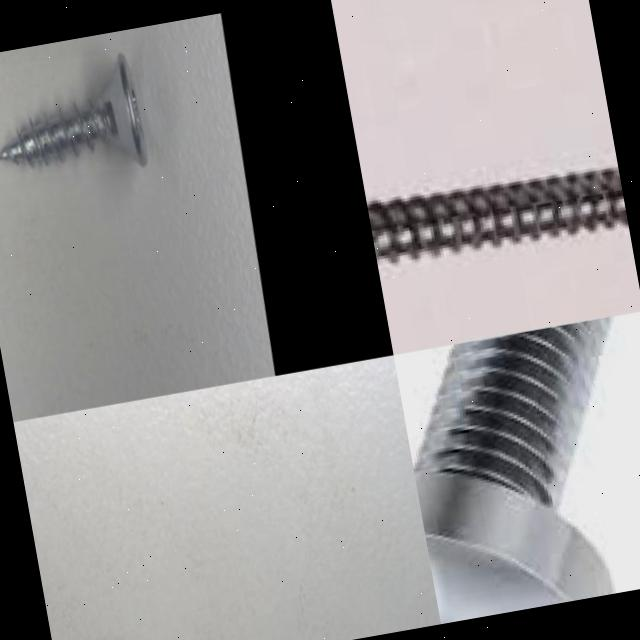Screw: (412, 315, 615, 624), (366, 163, 628, 263), (0, 53, 148, 168)
